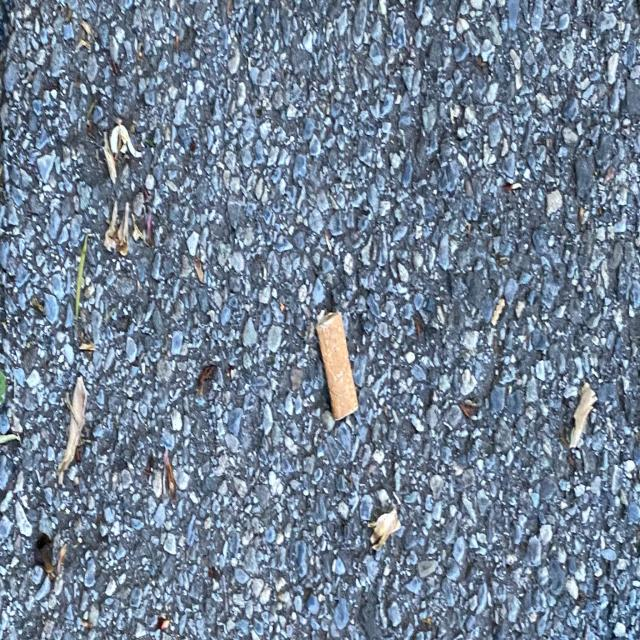other waste: (314, 308, 360, 422)
